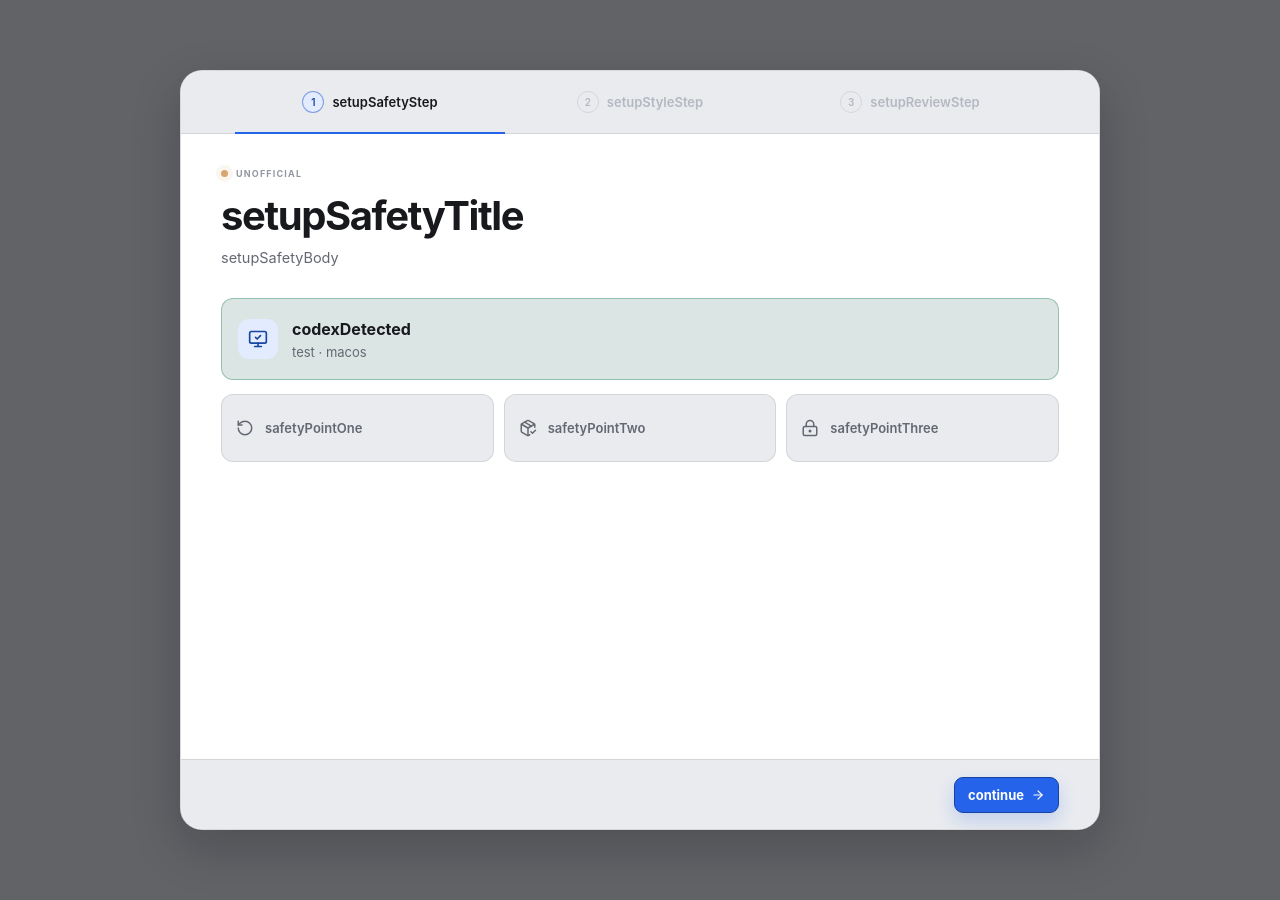
Test: Onboarding › keeps navigation and actions outside the scrolling stage content
The image size is (1280, 900).
Expected: the element with class "onboarding-content" is shown, [221,168,1059,462]
Expected: the footer with class "onboarding-footer" is shown, [181,759,1099,829]
Step 1. Click the button "continue" → (1007, 794), box [954,776,1059,812]
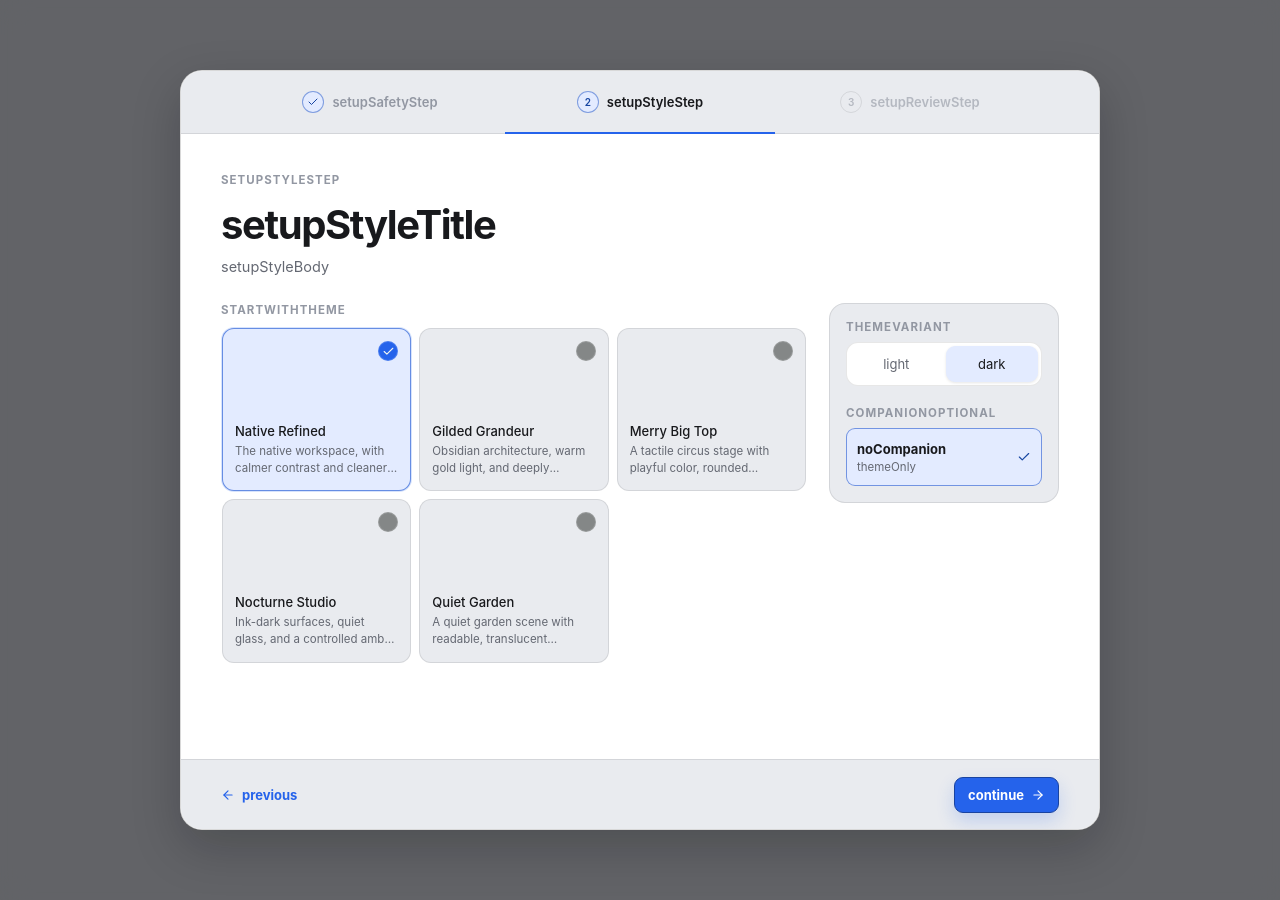
Expected: the heading "setupStyleTitle" is shown, [221,200,495,249]
Expected: the button "previous" is shown, [221,776,297,812]
